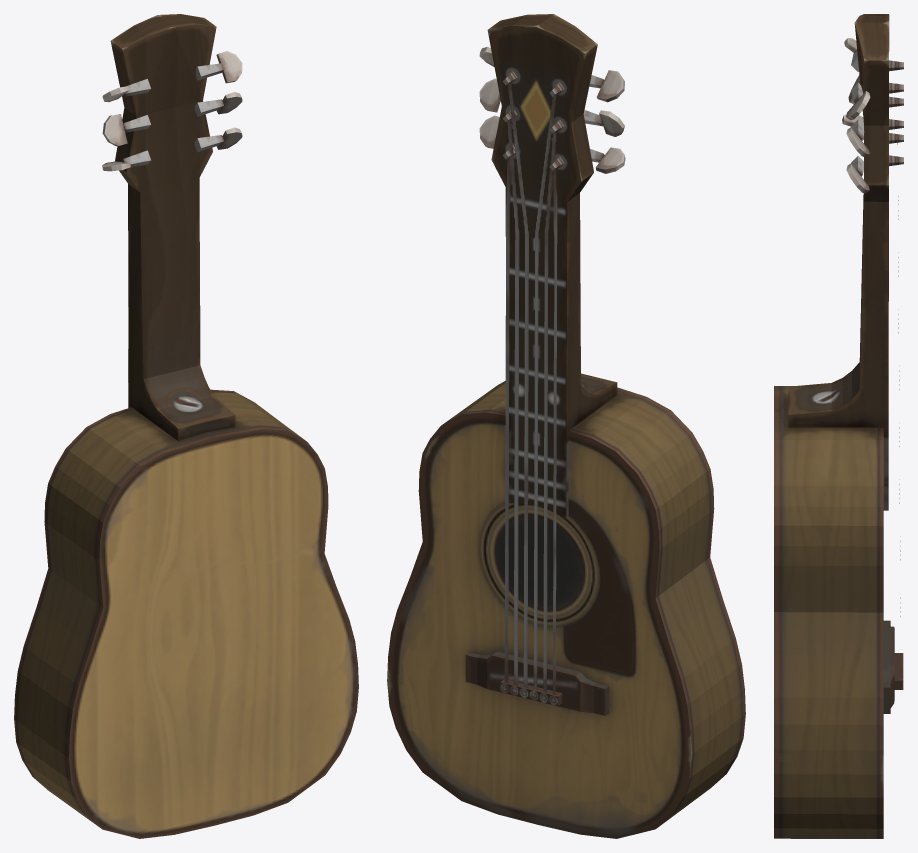
File: P_Guitar_001_S1_M02.obj
3 views of the same model, side by side, from view 1: azimuth 30°, elevation 25°; view 2: azimuth 150°, elevation 25°; view 3: azimuth 270°, elevation 25° (orthographic). The views are drawn at different scales.
Bounding box in the file's own units: 0.466 × 1.17 × 0.176.
Materials: 1 (1 with a texture image).
